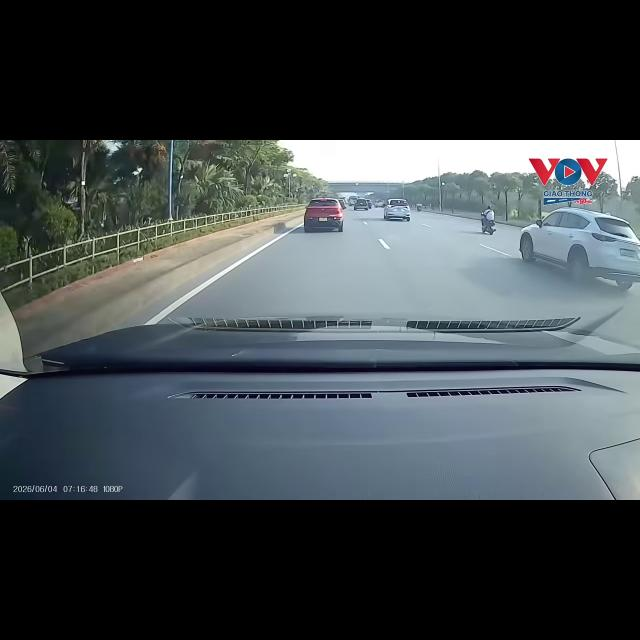car: (520, 207, 639, 289), (304, 198, 343, 232), (384, 198, 411, 222), (354, 198, 368, 210), (339, 199, 346, 209), (375, 200, 384, 207), (366, 199, 372, 208)
motorcycle: (481, 213, 495, 234), (416, 204, 422, 211)
